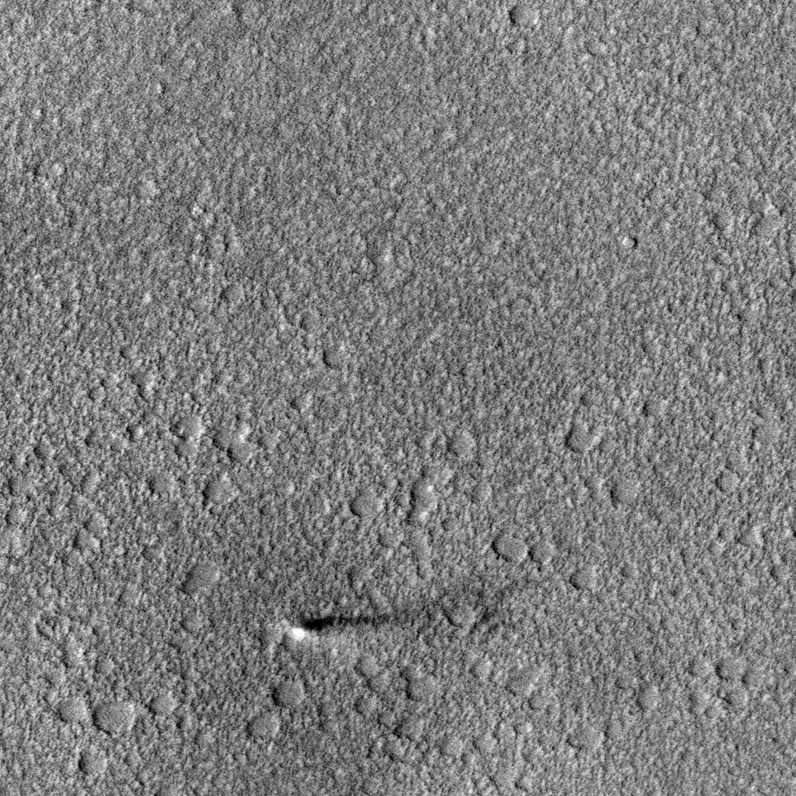dust_devil: (288, 594, 456, 644)
